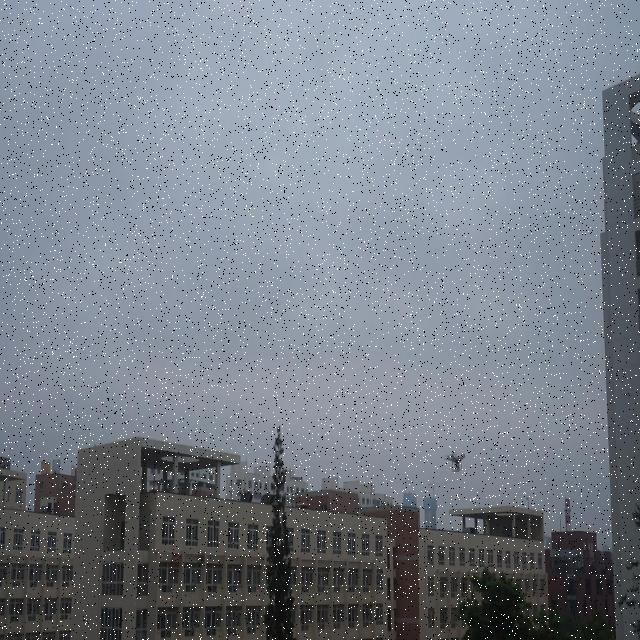UAV: (444, 452, 465, 472)
